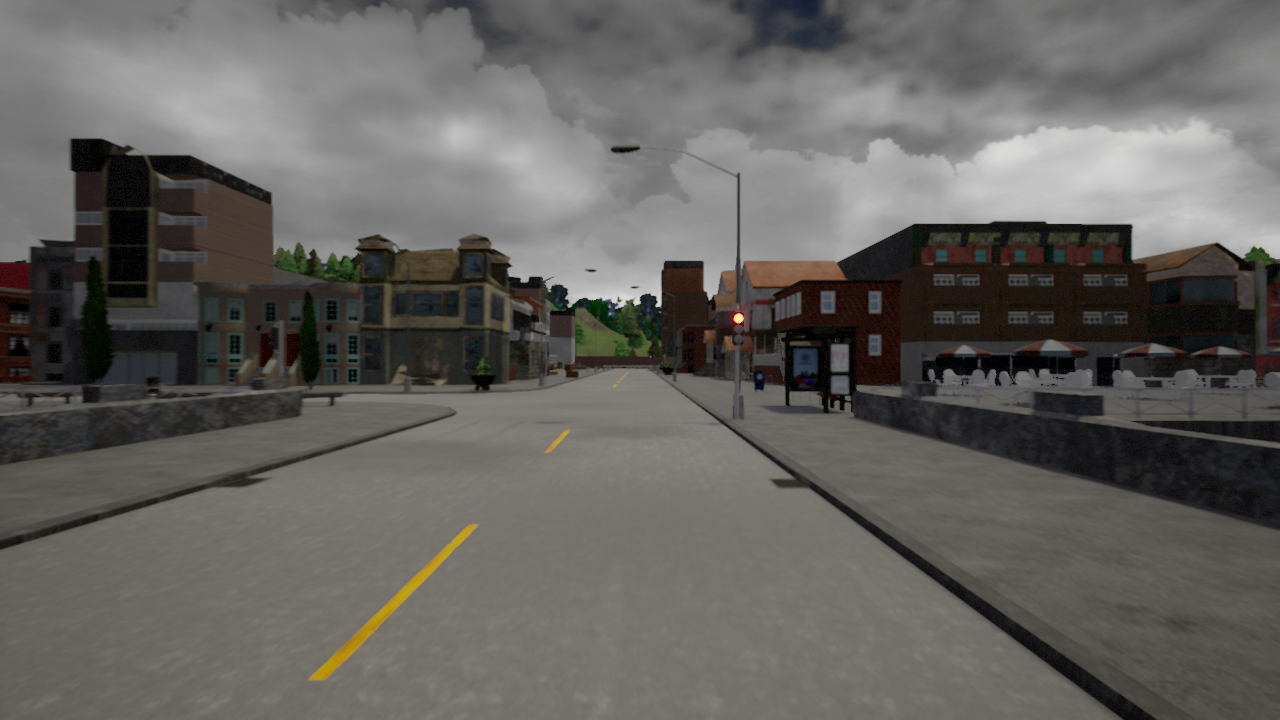red: (731, 311, 744, 345)
